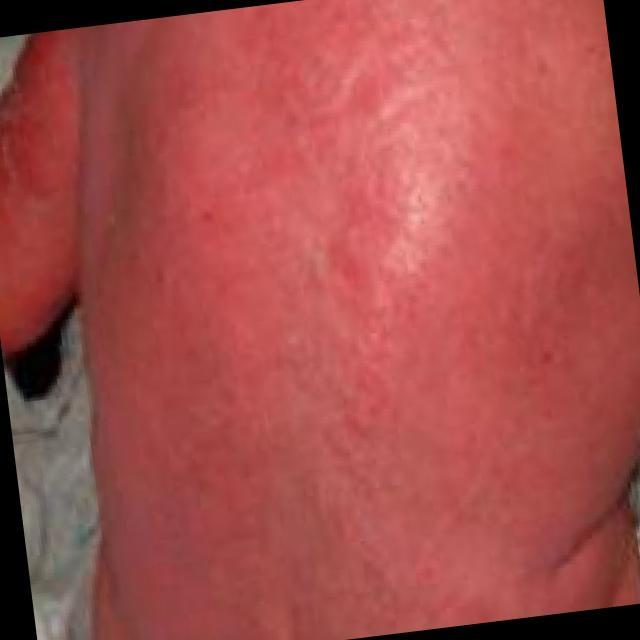Eczema: (117, 15, 615, 588)
